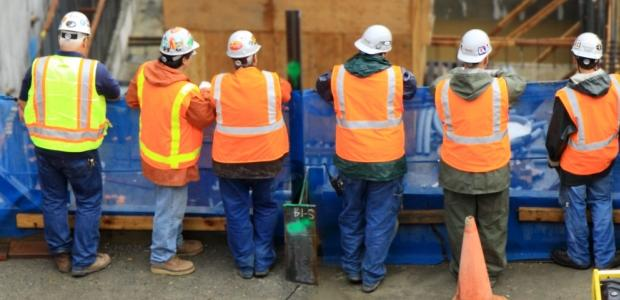helmet: (457, 29, 495, 67), (354, 25, 395, 57), (160, 27, 201, 58), (571, 32, 606, 63), (226, 30, 262, 60), (58, 11, 93, 37)
